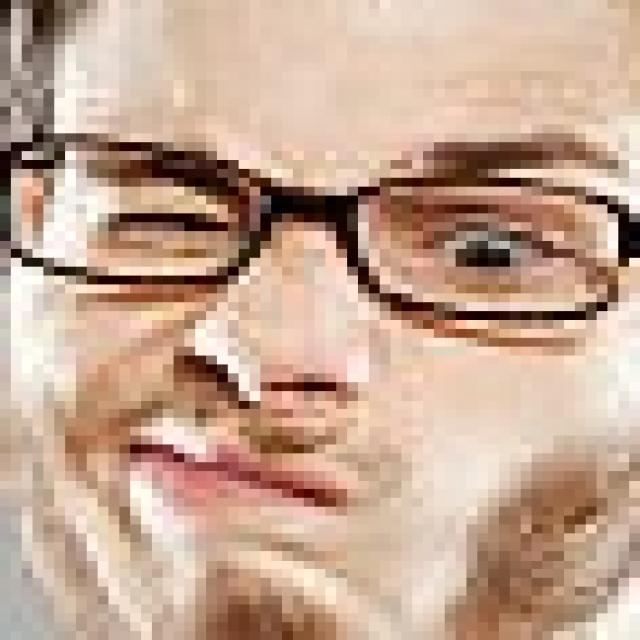Anxiety: (0, 7, 629, 631)
